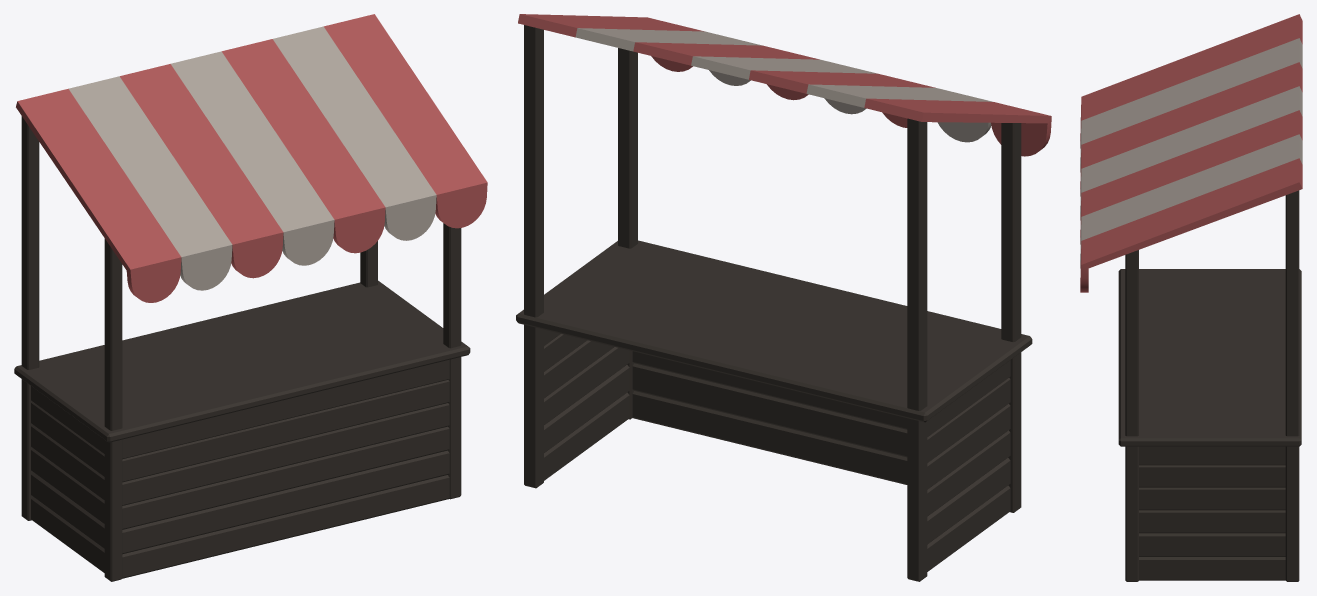
File: MarketStall.fbx
3 renders of one model, left to right at view 1: azimuth 30°, elevation 25°; view 2: azimuth 150°, elevation 25°; view 3: azimuth 270°, elevation 25°, orthographic. The views are drawn at different scales.
Parts seen in each view (by area): view 1: pCube26; view 2: pCube26; view 3: pCube26.
Boxes of the visible parts, bbox=[...] form: pCube26: bbox=[14, 14, 487, 581]; pCube26: bbox=[516, 14, 1051, 581]; pCube26: bbox=[1080, 14, 1302, 581].
Bounding box in the file's own units: 102 × 112 × 56.09.
